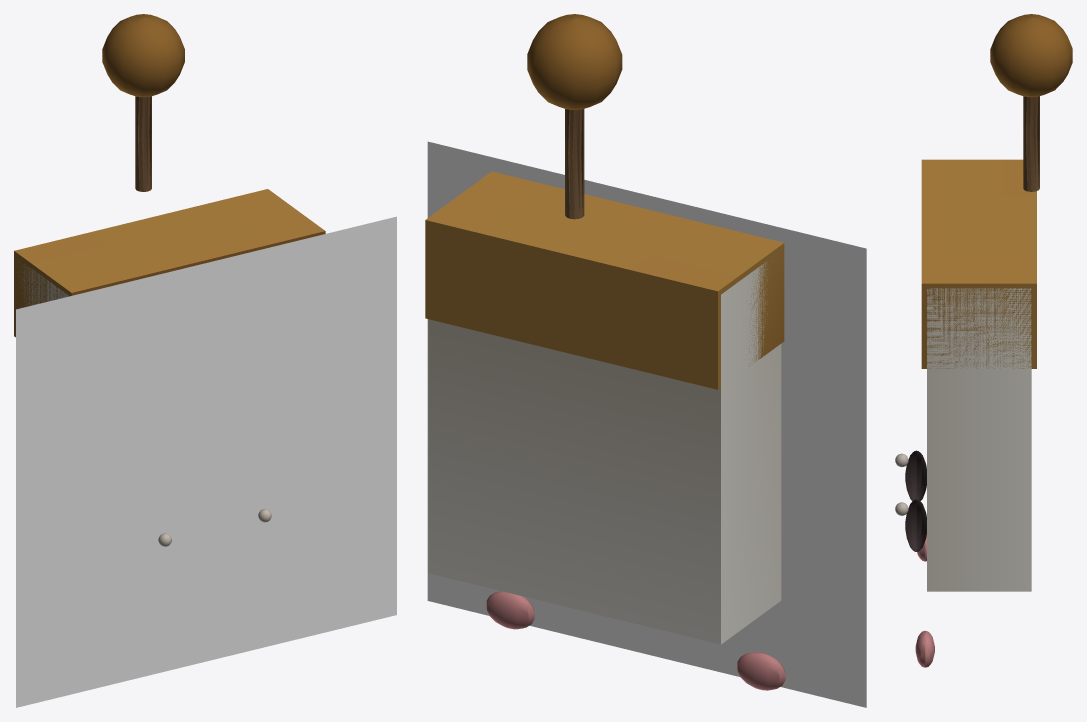
The picture shows the model from 3 angles, left to right: view 1: azimuth 30°, elevation 25°; view 2: azimuth 150°, elevation 25°; view 3: azimuth 270°, elevation 25°; orthographic projection. The views are drawn at different scales.
Visible parts, largest first — view 1: pet_p5fe458d4; view 2: pet_p5fe458d4; view 3: pet_p5fe458d4.
Part boxes in pixels (box(x1,y1,x2,y2)): pet_p5fe458d4: box(14, 14, 396, 707); pet_p5fe458d4: box(425, 14, 866, 707); pet_p5fe458d4: box(895, 14, 1072, 667).
Size of the model in its own units: 0.42 by 0.63 by 0.1698.
